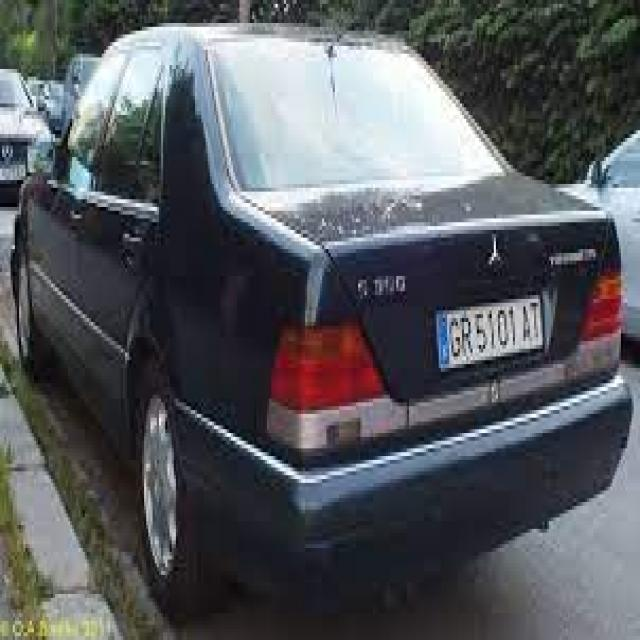License-Plate: (435, 291, 544, 377)
